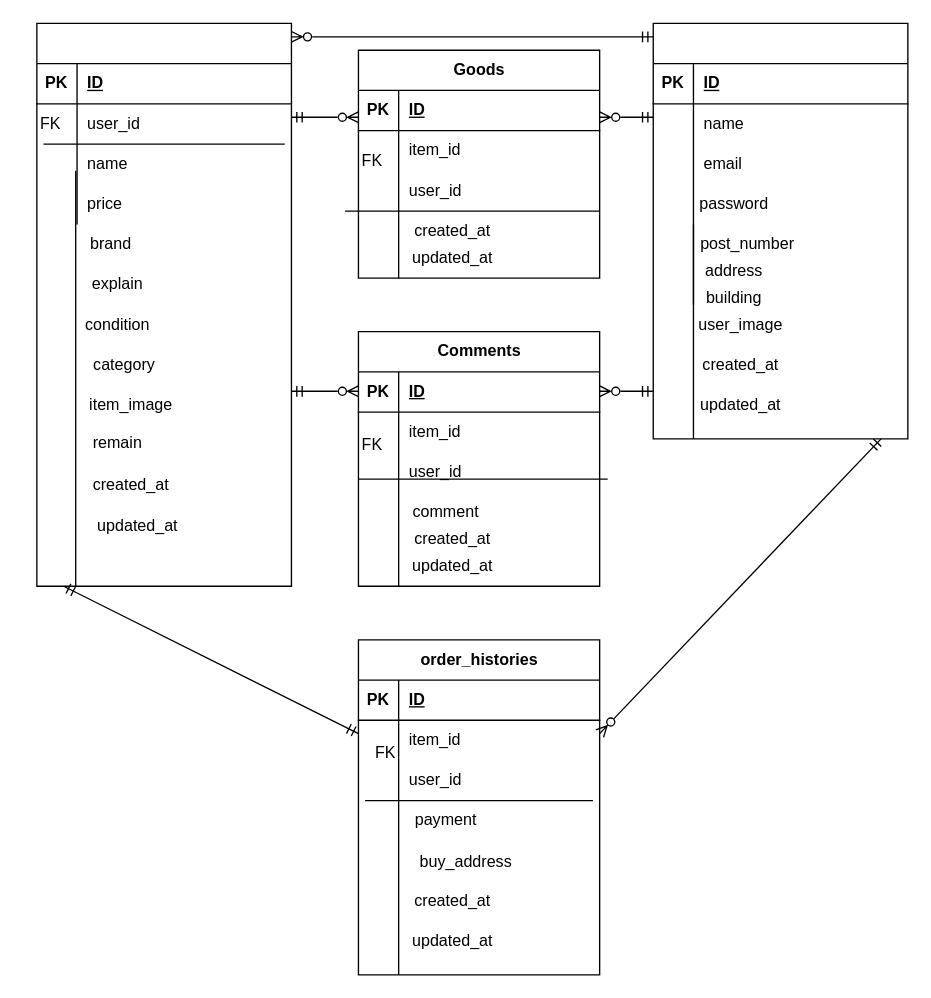
Image size: 931x998. Some labels were removed from this diagram. Here are the shapes that lost their labels. From the top down, the box of each, then its label:
(652, 22, 908, 439): Users
(36, 22, 291, 586): Items
